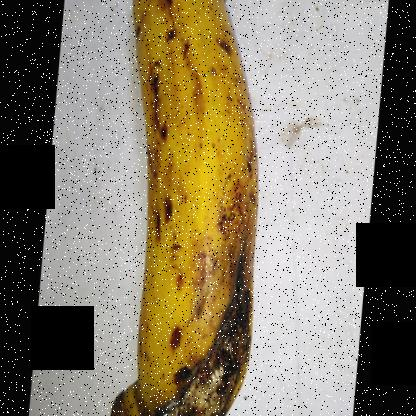ripe: (113, 1, 280, 415)
rotten: (148, 279, 276, 415)
